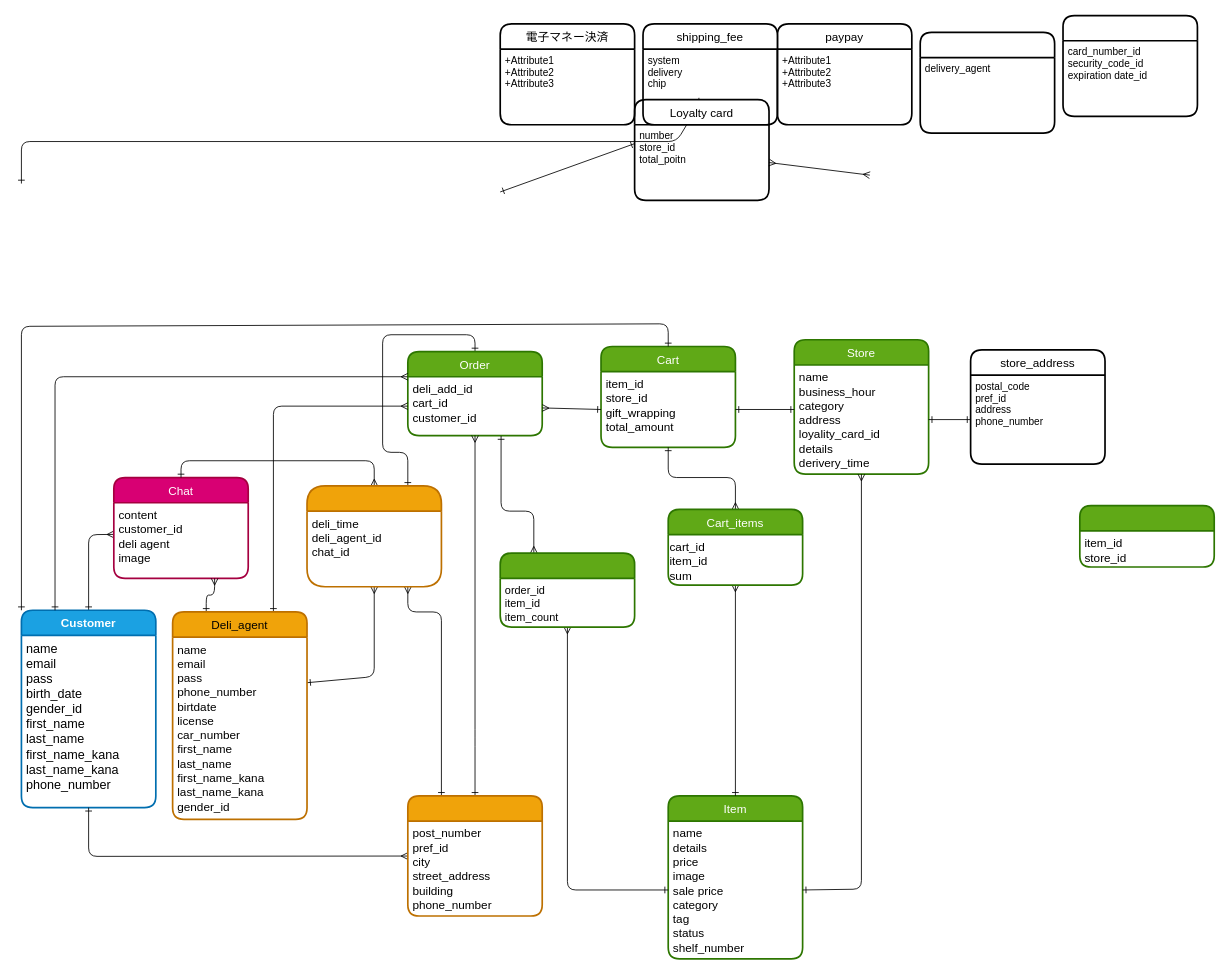
Image size: 1230x974. Some labels were removed from this diagram. The shapes that lost their labels are listed below. From the top down, each one's box as (x1, y1, x2, y2) in pixels, then its label:
(919, 31, 1055, 134): bank_account
(1062, 14, 1198, 117): Payment
(306, 485, 442, 587): Deli_status
(1079, 504, 1215, 567): store_item
(499, 552, 635, 627): order_item
(407, 795, 543, 916): Deli_add
